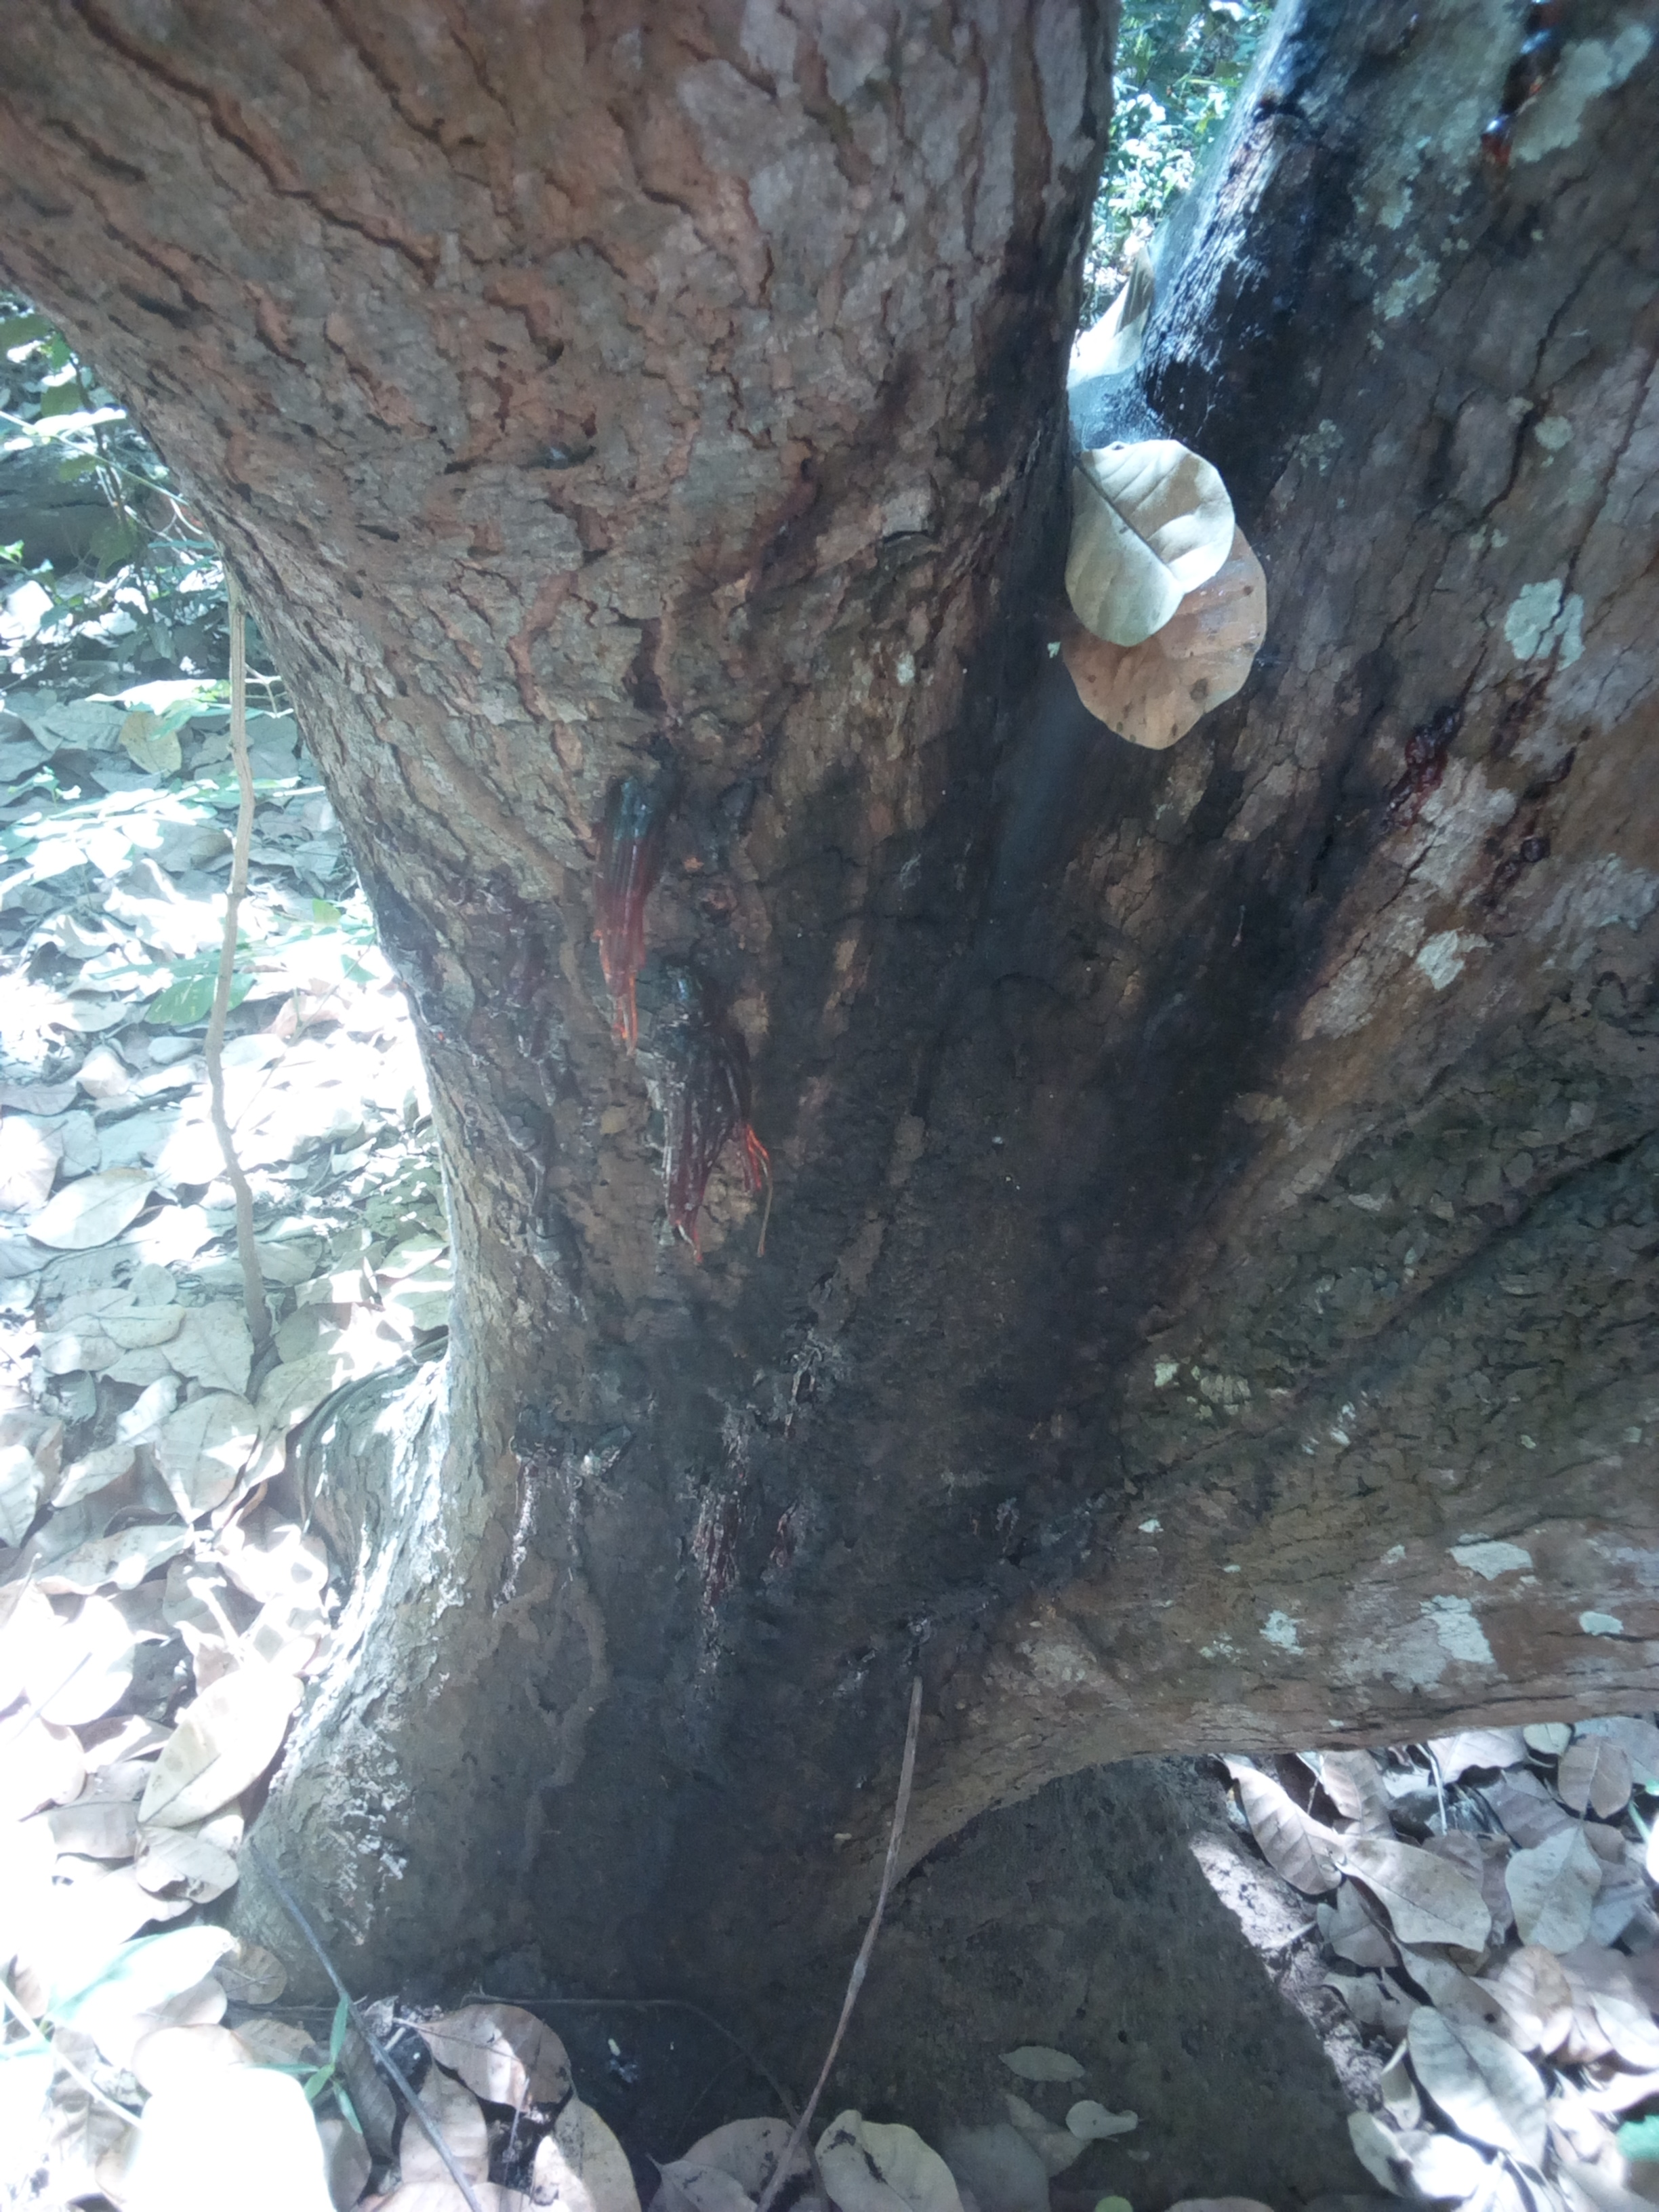Gommose: (413, 819, 1378, 1902)
